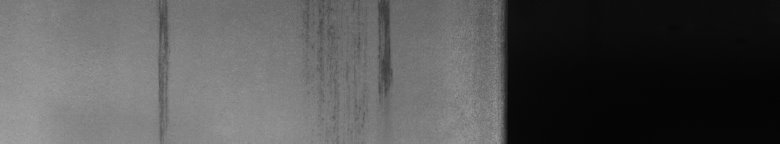ka: (304, 4, 397, 122)
